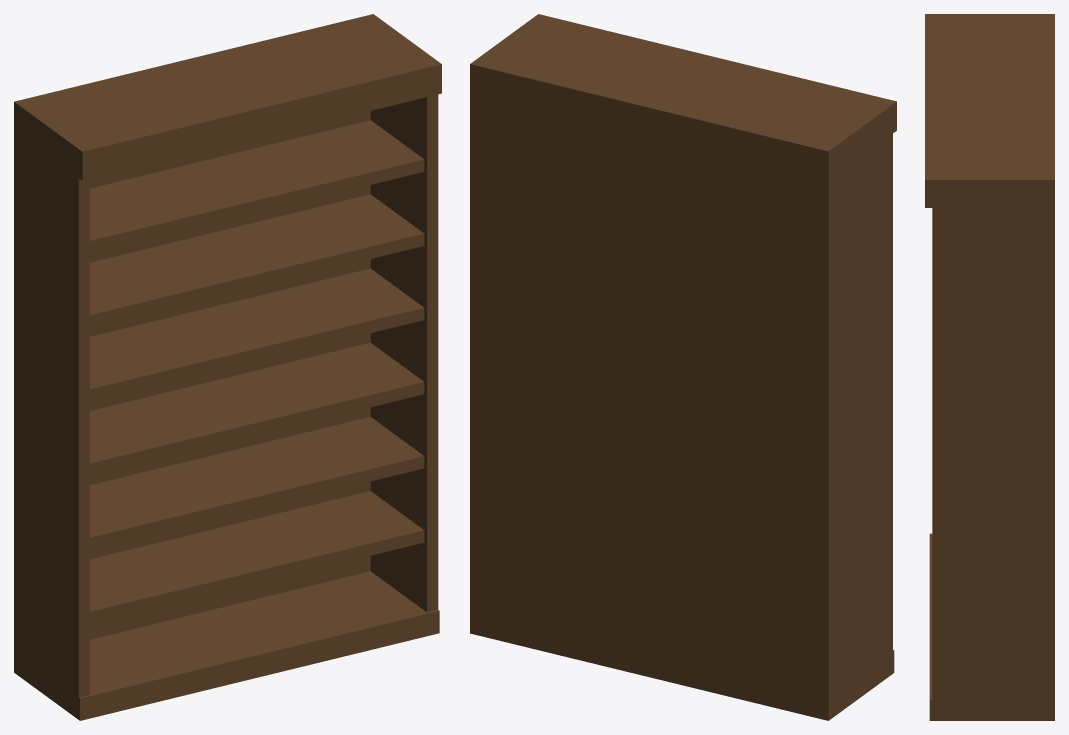
Rendered from Bookshelf_001.fbx.
3 renders of one model, left to right at view 1: azimuth 30°, elevation 25°; view 2: azimuth 150°, elevation 25°; view 3: azimuth 270°, elevation 25°, orthographic. The views are drawn at different scales.
Visible parts, largest first — view 1: bookshelf_001; view 2: bookshelf_001; view 3: bookshelf_001.
Part boxes in pixels (x1,y1,x2,y2): bookshelf_001: (14, 14, 441, 720); bookshelf_001: (470, 14, 896, 720); bookshelf_001: (925, 14, 1054, 720).
Bounding box in the file's own units: 200 × 304 × 66.07.
